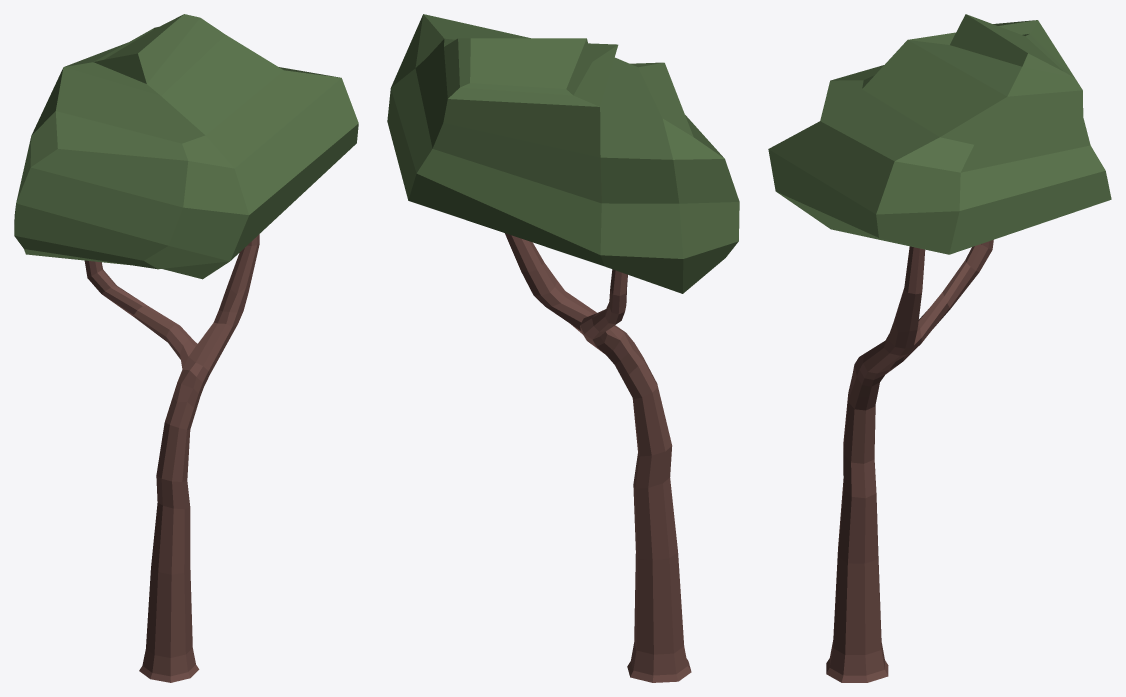
File: apple_3.glb
3 renders of one model, left to right at view 1: azimuth 30°, elevation 25°; view 2: azimuth 150°, elevation 25°; view 3: azimuth 270°, elevation 25°, orthographic. The views are drawn at different scales.
Visible parts, largest first — view 1: Apple_3; view 2: Apple_3; view 3: Apple_3.
Part boxes in pixels (x1=…): Apple_3: x1=14, y1=14, x2=358, y2=682; Apple_3: x1=387, y1=14, x2=739, y2=682; Apple_3: x1=768, y1=14, x2=1111, y2=682.
Bounding box in the file's own units: 1.17 × 2.09 × 0.974.
